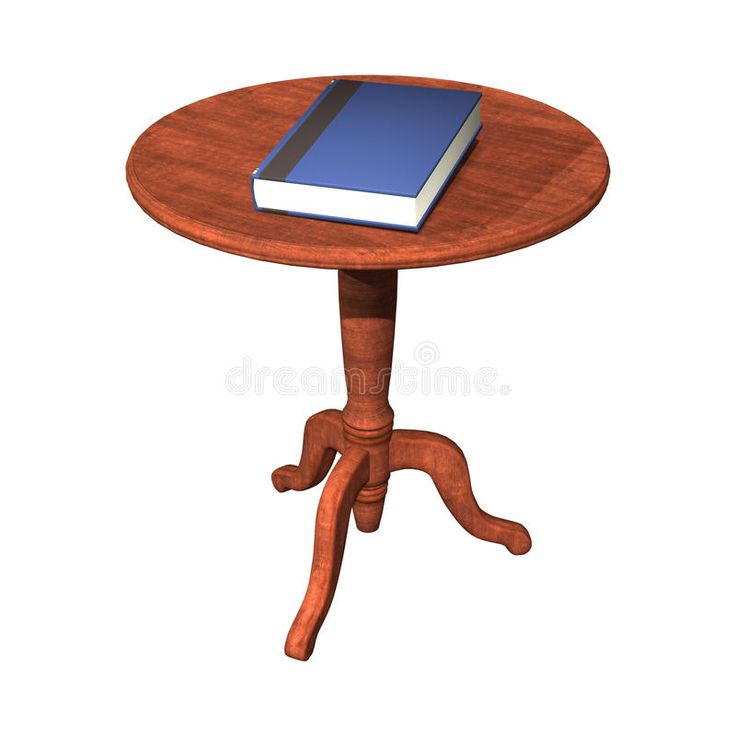book: (266, 58, 420, 237)
